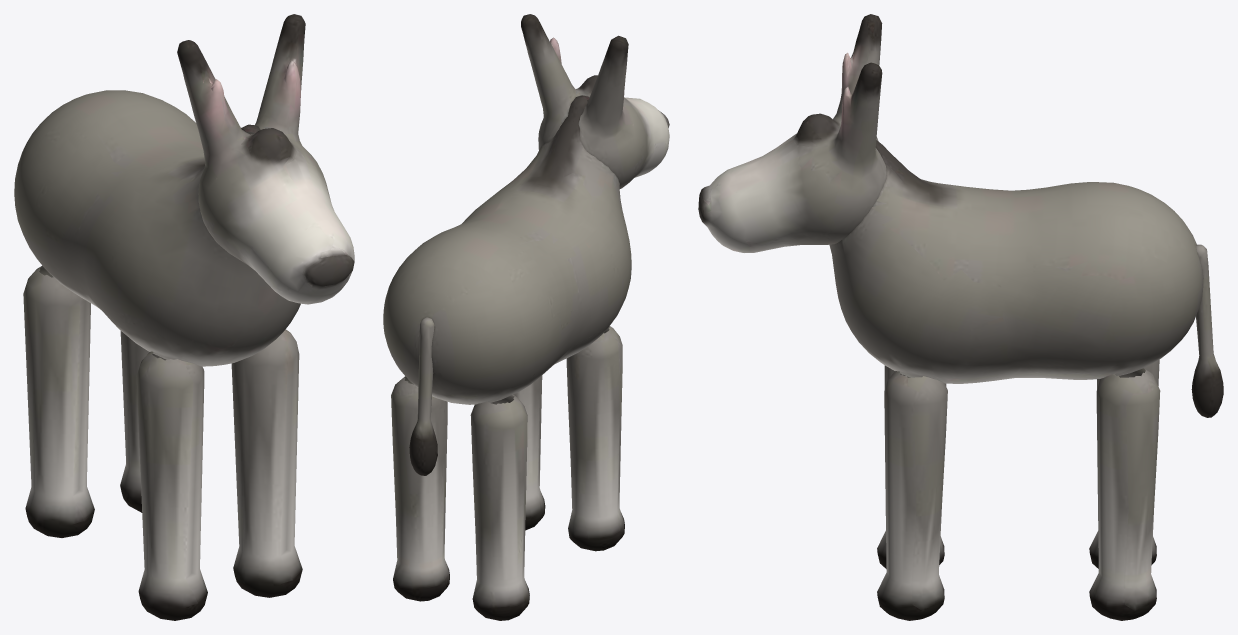
File: animal_donkey.glb
The picture shows the model from 3 angles, left to right: view 1: azimuth 30°, elevation 25°; view 2: azimuth 150°, elevation 25°; view 3: azimuth 270°, elevation 25°; orthographic projection. The views are drawn at different scales.
Parts seen in each view (by area): view 1: animal_donkey, head, leg0, leg2, leg1, leg3; view 2: animal_donkey, leg2, head, leg0, leg3, tail, leg1; view 3: animal_donkey, head, leg3, leg1, tail.
Part boxes in pixels (x1,y1,x2,y2): animal_donkey: (14,90,300,366); head: (177,14,354,304); leg0: (136,351,207,620); leg2: (23,265,94,537); leg1: (231,329,302,597); leg3: (120,331,149,512); animal_donkey: (383,95,631,404); leg2: (470,394,529,620); head: (521,14,669,188); leg0: (566,326,624,551); leg3: (391,376,449,601); tail: (409,317,437,475); leg1: (513,375,545,530); animal_donkey: (829,140,1203,383); head: (698,14,886,252); leg3: (1089,368,1160,620); leg1: (877,371,947,620); tail: (1191,244,1223,417).
Bounding box in the file's own units: 0.2234 × 0.694 × 0.5938.
Materials: 1 (1 with a texture image).
